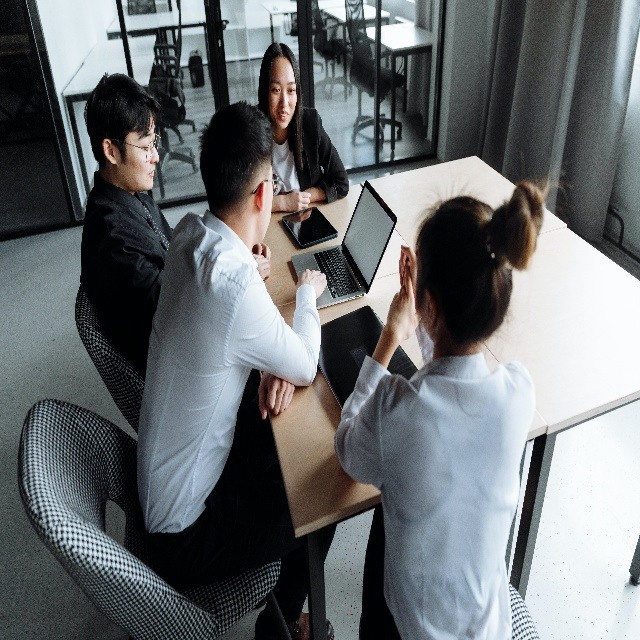Gafas: (109, 129, 161, 162), (253, 172, 280, 196)
Sin_guantes: (386, 260, 423, 340), (257, 368, 295, 421), (399, 243, 419, 306), (294, 268, 327, 300), (284, 191, 311, 213), (252, 253, 269, 283), (252, 241, 271, 262)
